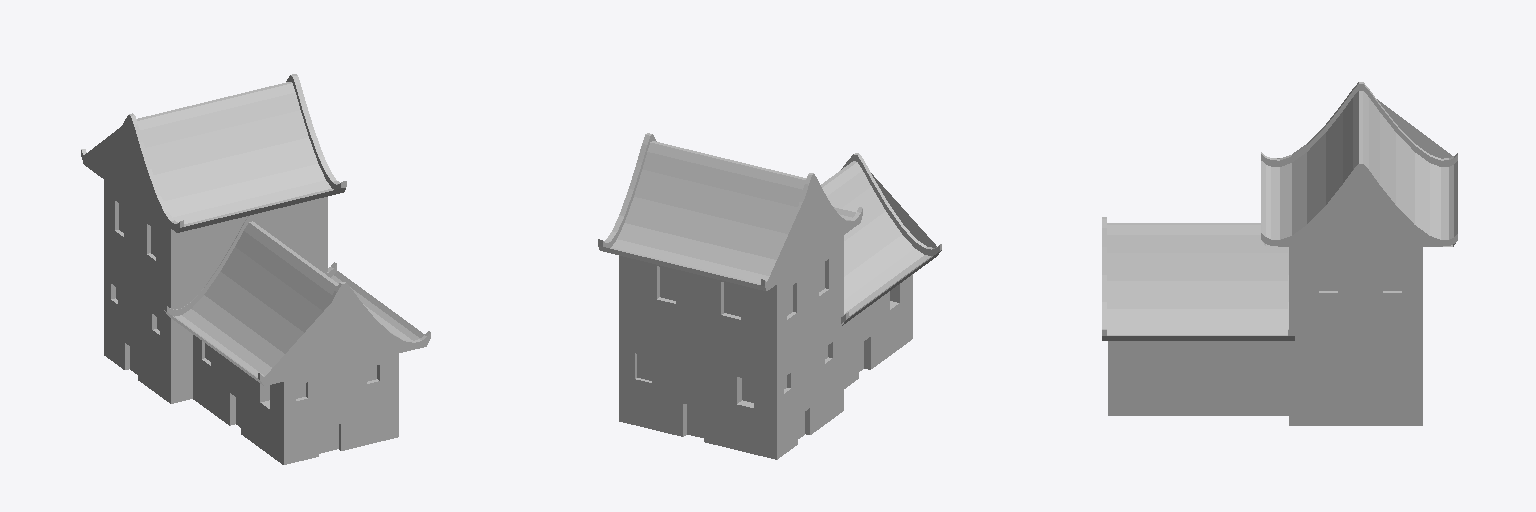
File: haus5.obj
3 renders of one model, left to right at view 1: azimuth 30°, elevation 25°; view 2: azimuth 150°, elevation 25°; view 3: azimuth 270°, elevation 25°, orthographic.
Parts seen in each view (by area): view 1: Arc005, Arc002, Box005, Box001; view 2: Box005, Arc005, Arc002, Box001; view 3: Box005, Arc005, Arc002, Box001.
Part boxes in pixels (x1,y1,x2,y2): Arc005: (81, 74, 346, 232); Arc002: (164, 215, 430, 385); Box005: (104, 180, 327, 403); Box001: (193, 335, 398, 464); Box005: (619, 236, 843, 459); Arc005: (598, 133, 862, 290); Arc002: (821, 153, 941, 325); Box001: (844, 274, 912, 388); Box005: (1289, 247, 1422, 425); Arc005: (1261, 82, 1457, 246); Arc002: (1102, 217, 1294, 340); Box001: (1108, 341, 1288, 415).
Size of the model in its own units: 749 by 1103 by 1348.